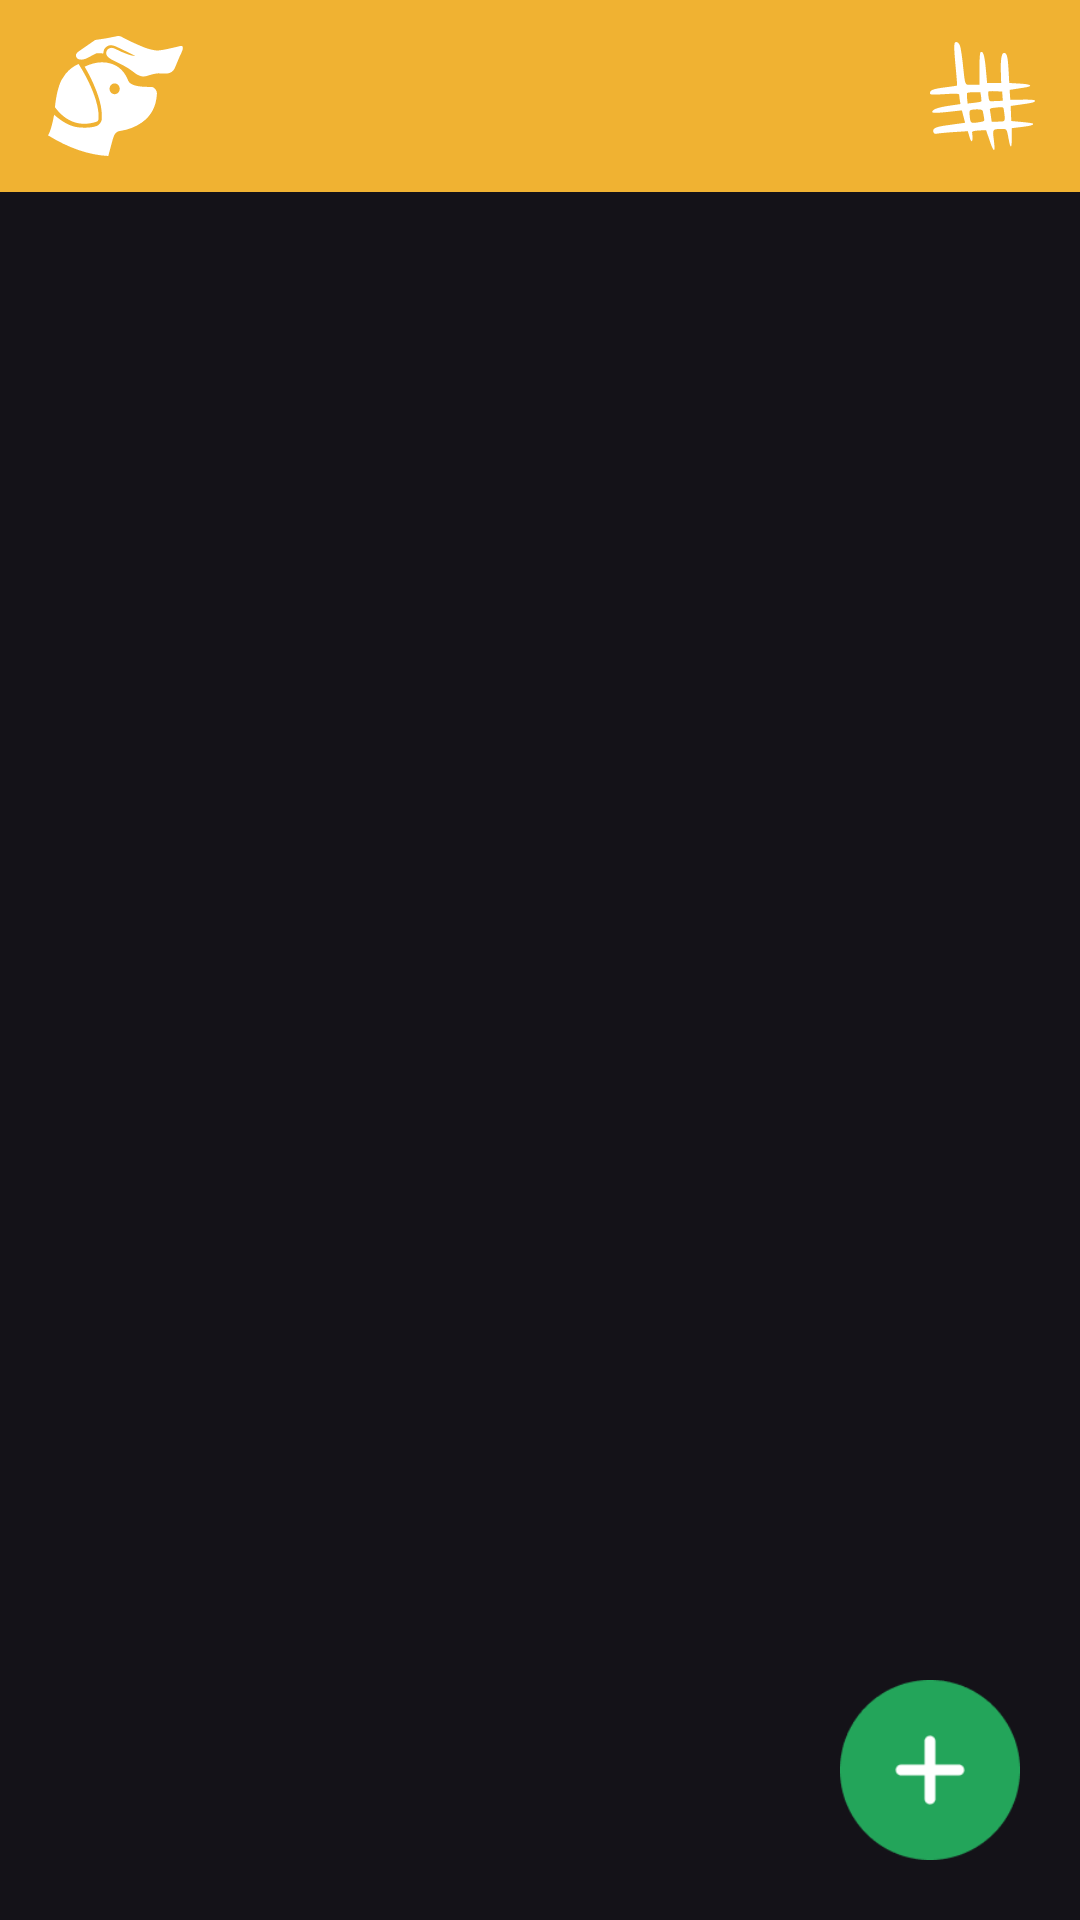

Screen size 1080w x 1920h. Icon name, then its box in pixels as (x1, y1, x2, y2):
crosshatch: (930, 42, 1035, 150)
